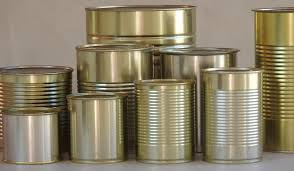can: (1, 1, 292, 169)
